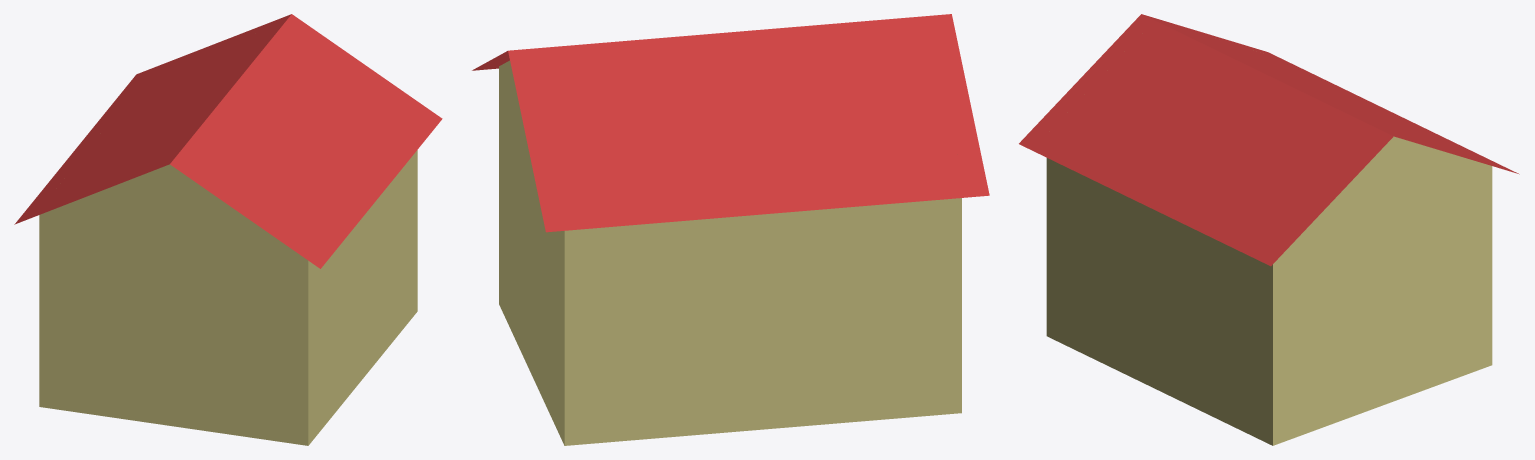
3 renders of one model, left to right at view 1: azimuth 30°, elevation 25°; view 2: azimuth 150°, elevation 25°; view 3: azimuth 270°, elevation 25°, orthographic. The views are drawn at different scales.
Visible parts, largest first — view 1: group_5, group_3, group_4; view 2: group_5, group_3, group_4; view 3: group_5, group_3, group_4.
Boxes of the visible parts, box(x1,y1,x2,y2) form: group_5: box(39, 150, 417, 445); group_3: box(39, 14, 442, 248); group_4: box(14, 14, 441, 268); group_5: box(499, 60, 961, 445); group_3: box(475, 14, 961, 232); group_4: box(472, 14, 989, 232); group_5: box(1046, 136, 1492, 445); group_3: box(1047, 14, 1519, 265); group_4: box(1019, 14, 1518, 265).
Bounding box in the file's own units: 18.97 × 18.77 × 11.4.
